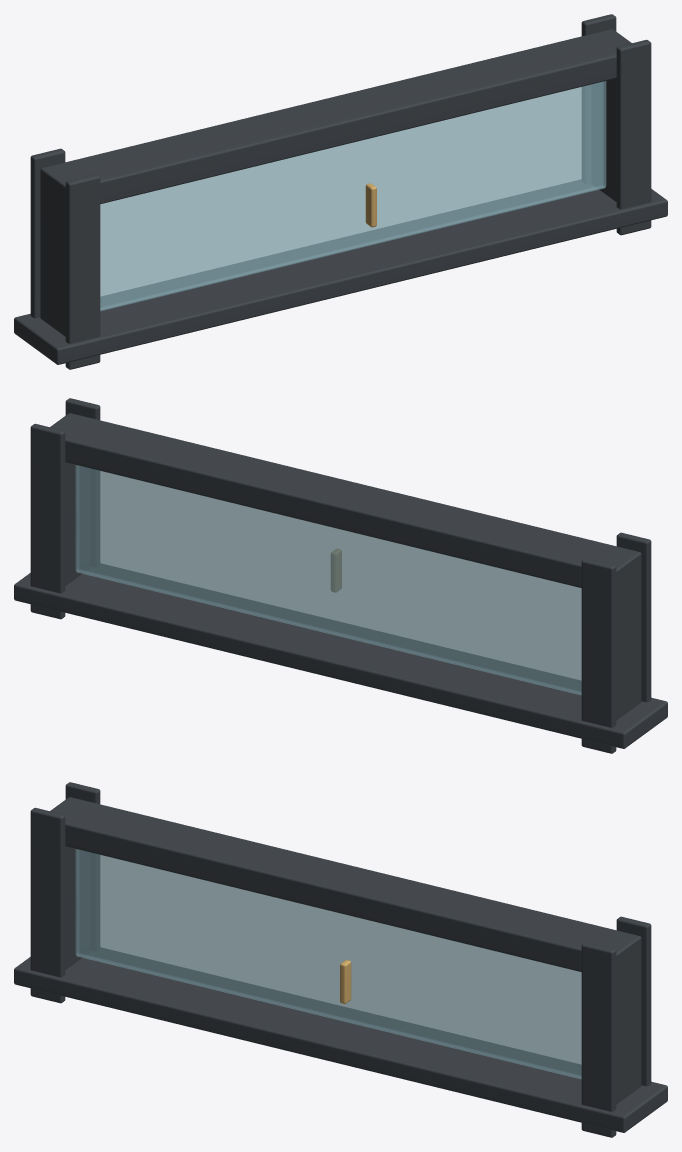
File: window-transom.glb
3 views of the same model, one above another, from view 1: azimuth 30°, elevation 25°; view 2: azimuth 150°, elevation 25°; view 3: azimuth 330°, elevation 25° (orthographic).
Parts seen in each view (by area): view 1: Glazing.006, Sill.006, Lintel.016, Architrave.064, Architrave.066, Jamb.032, Jamb.033, Architrave.065, Architrave.067; view 2: Glazing.006, Sill.006, Lintel.016, Architrave.065, Architrave.067, Jamb.032, Jamb.033, Architrave.064, Architrave.066; view 3: Glazing.006, Sill.006, Lintel.016, Architrave.066, Architrave.064, Jamb.033, Jamb.032, Architrave.067, Architrave.065.
Part boxes in pixels (left/top/right/bottom): Glazing.006: left=100, top=81, right=606, bottom=311; Sill.006: left=14, top=180, right=667, bottom=364; Lintel.016: left=46, top=29, right=630, bottom=203; Architrave.064: left=65, top=174, right=100, bottom=369; Architrave.066: left=616, top=39, right=651, bottom=235; Jamb.032: left=40, top=163, right=79, bottom=336; Jamb.033: left=591, top=29, right=631, bottom=201; Architrave.065: left=30, top=148, right=65, bottom=318; Architrave.067: left=581, top=14, right=616, bottom=183; Glazing.006: left=75, top=465, right=581, bottom=695; Sill.006: left=14, top=564, right=667, bottom=748; Lintel.016: left=51, top=414, right=634, bottom=587; Architrave.065: left=581, top=558, right=616, bottom=753; Architrave.067: left=30, top=423, right=65, bottom=619; Jamb.032: left=603, top=547, right=641, bottom=720; Jamb.033: left=50, top=413, right=90, bottom=585; Architrave.064: left=616, top=532, right=651, bottom=702; Architrave.066: left=65, top=398, right=100, bottom=567; Glazing.006: left=75, top=849, right=581, bottom=1079; Sill.006: left=14, top=948, right=667, bottom=1132; Lintel.016: left=51, top=797, right=634, bottom=971; Architrave.066: left=581, top=942, right=616, bottom=1137; Architrave.064: left=30, top=807, right=65, bottom=1003; Jamb.033: left=604, top=931, right=641, bottom=1104; Jamb.032: left=50, top=797, right=90, bottom=969; Architrave.067: left=616, top=916, right=651, bottom=1086; Architrave.065: left=65, top=782, right=100, bottom=951.
Size of the model in its own units: 1.92 by 0.56 by 0.24.
